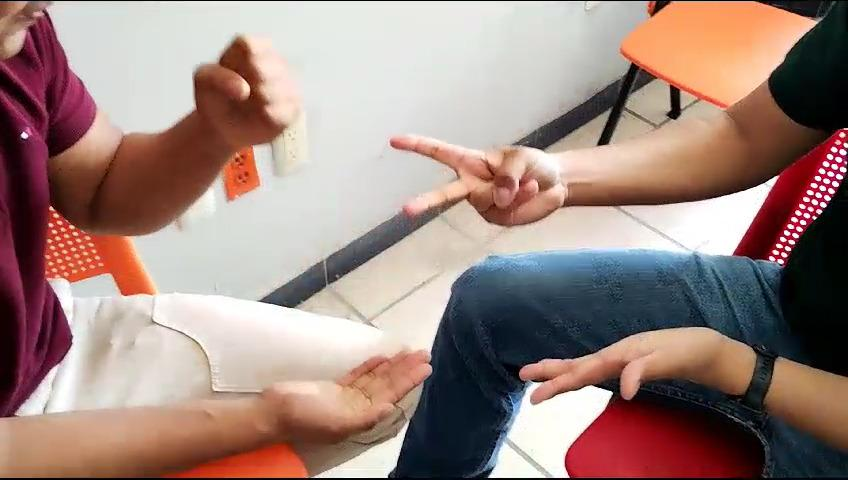Scissor: (379, 110, 584, 242)
Stone: (174, 19, 318, 161)
